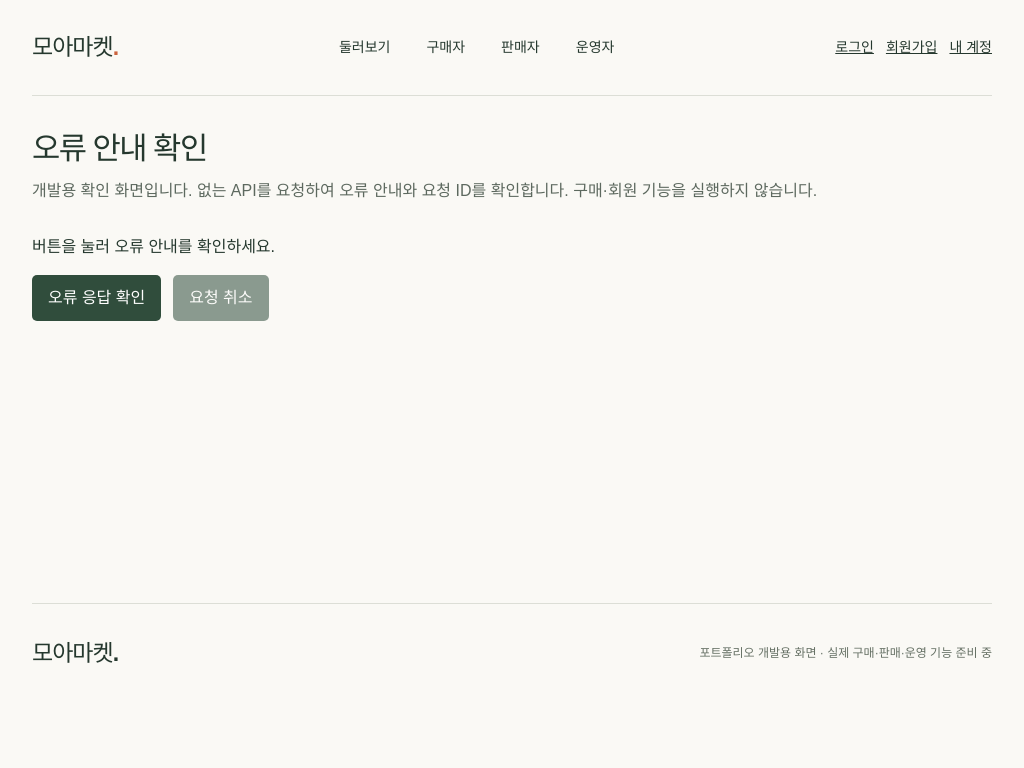
it: 개발 확인 화면에서 수동 요청 후 공통 오류와 요청 ID를 표시한다
Click the button "오류 응답 확인" at (97, 298), box left=32, top=275, right=161, bottom=321
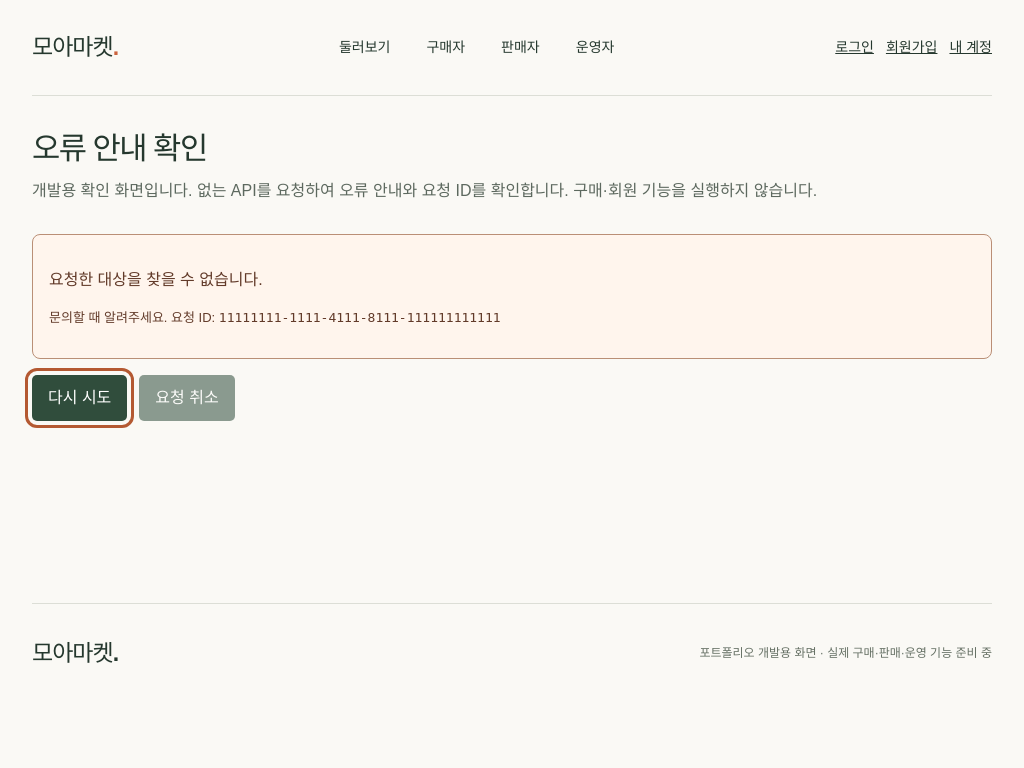
Expected: the message shows "요청한 대상을 찾을 수 없습니다.", left=49, top=271, right=263, bottom=288
Expected: the message shows "11111111-1111-4111-8111-111111111111", left=219, top=310, right=501, bottom=325
